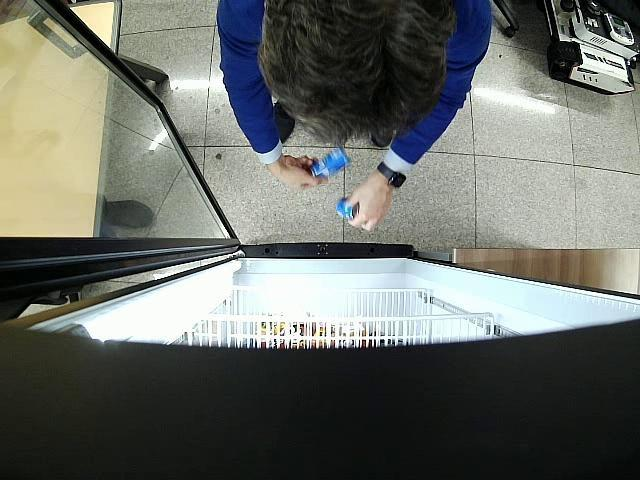15_letsbe: (310, 148, 351, 176), (336, 198, 358, 218)
